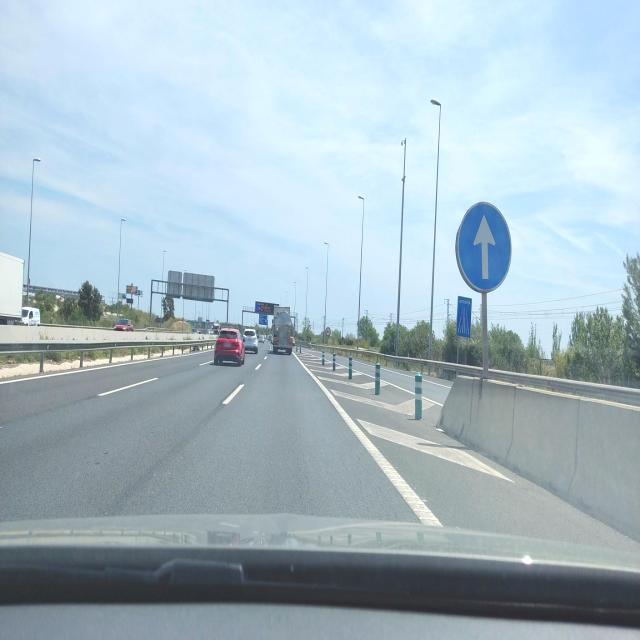car: (213, 327, 246, 366), (242, 327, 259, 353), (114, 317, 135, 331)
